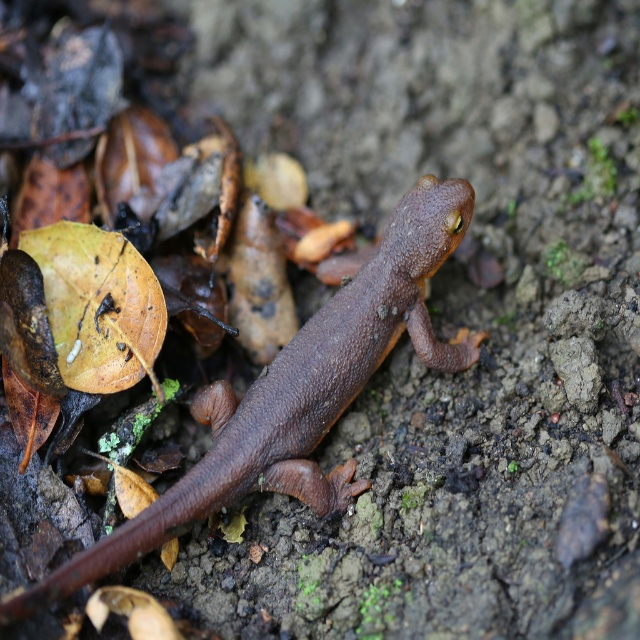Lizard: (0, 174, 492, 622)
